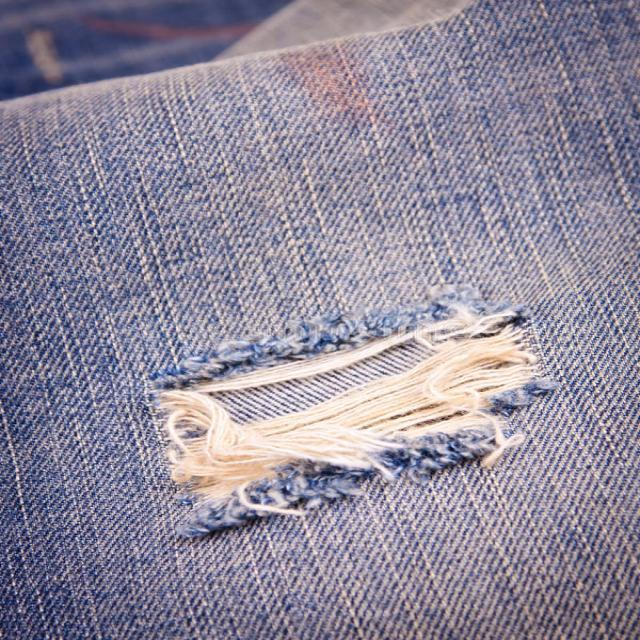Hole: (153, 288, 555, 538)
